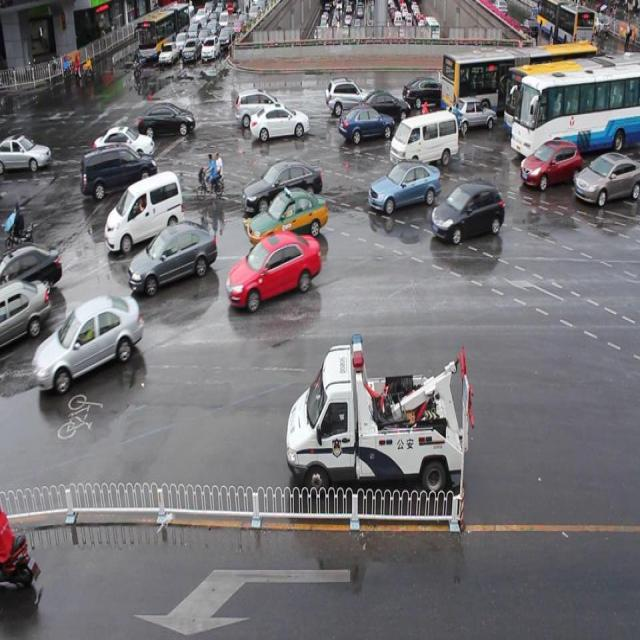bus: (284, 336, 472, 501)
car: (36, 297, 142, 390), (228, 230, 318, 308), (129, 222, 216, 295), (106, 175, 184, 250), (242, 158, 323, 218), (432, 180, 504, 241), (80, 145, 157, 199), (1, 274, 50, 356), (248, 190, 328, 240), (366, 163, 439, 217), (1, 241, 61, 298), (575, 154, 640, 206), (518, 140, 580, 190), (95, 124, 156, 162), (1, 129, 52, 174), (234, 86, 282, 129), (339, 106, 393, 144), (444, 95, 496, 134), (137, 104, 194, 138), (250, 105, 308, 138), (324, 77, 372, 116), (361, 88, 410, 125), (402, 78, 453, 110)
truck: (388, 114, 460, 172)
van: (512, 68, 640, 160), (442, 44, 596, 112), (504, 59, 640, 132)
